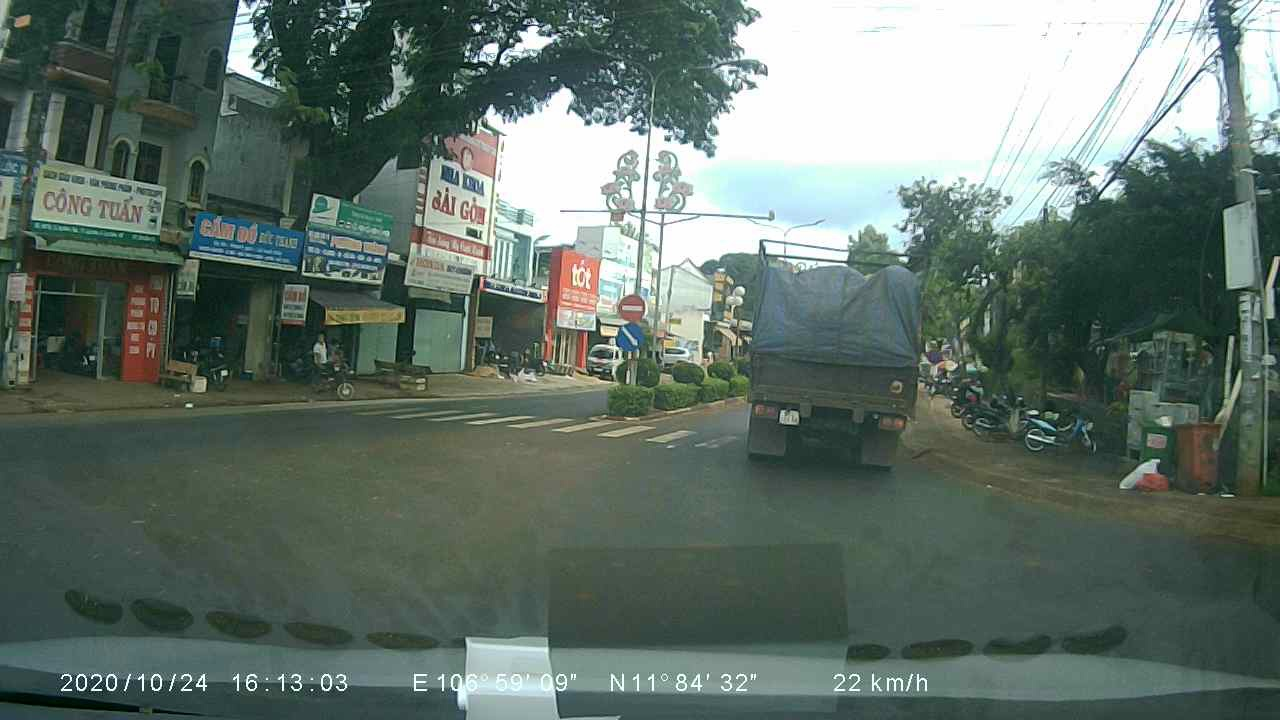Cam di nguoc chieu: (616, 289, 648, 322)
Huong di phai re phai: (614, 319, 646, 351)
